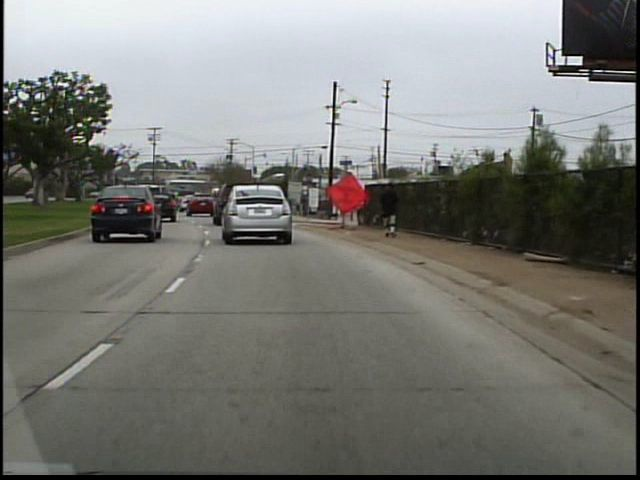person: (377, 178, 404, 238)
